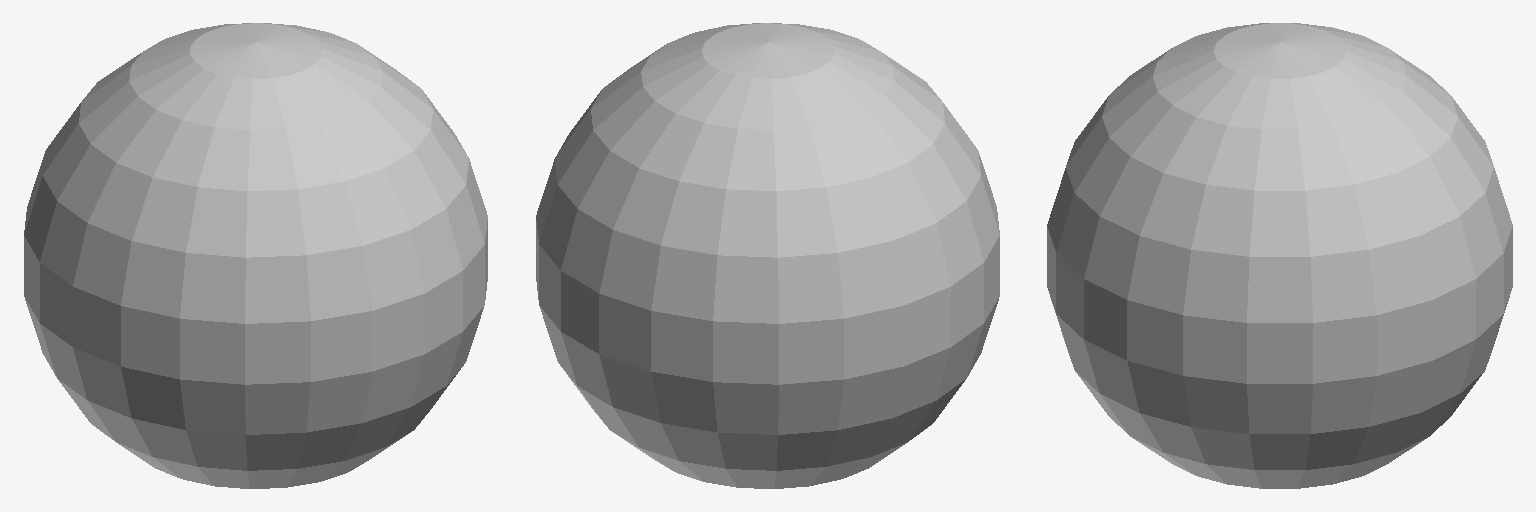
Rendered from background.obj.
3 renders of one model, left to right at view 1: azimuth 30°, elevation 25°; view 2: azimuth 150°, elevation 25°; view 3: azimuth 270°, elevation 25°, orthographic.
Visible parts, largest first — view 1: Sphere; view 2: Sphere; view 3: Sphere.
Part boxes in pixels (x1,y1,x2,y2): Sphere: (24,23,487,488); Sphere: (536,23,999,488); Sphere: (1047,23,1512,488).
Bounding box in the file's own units: 50.81 × 51.86 × 51.33.